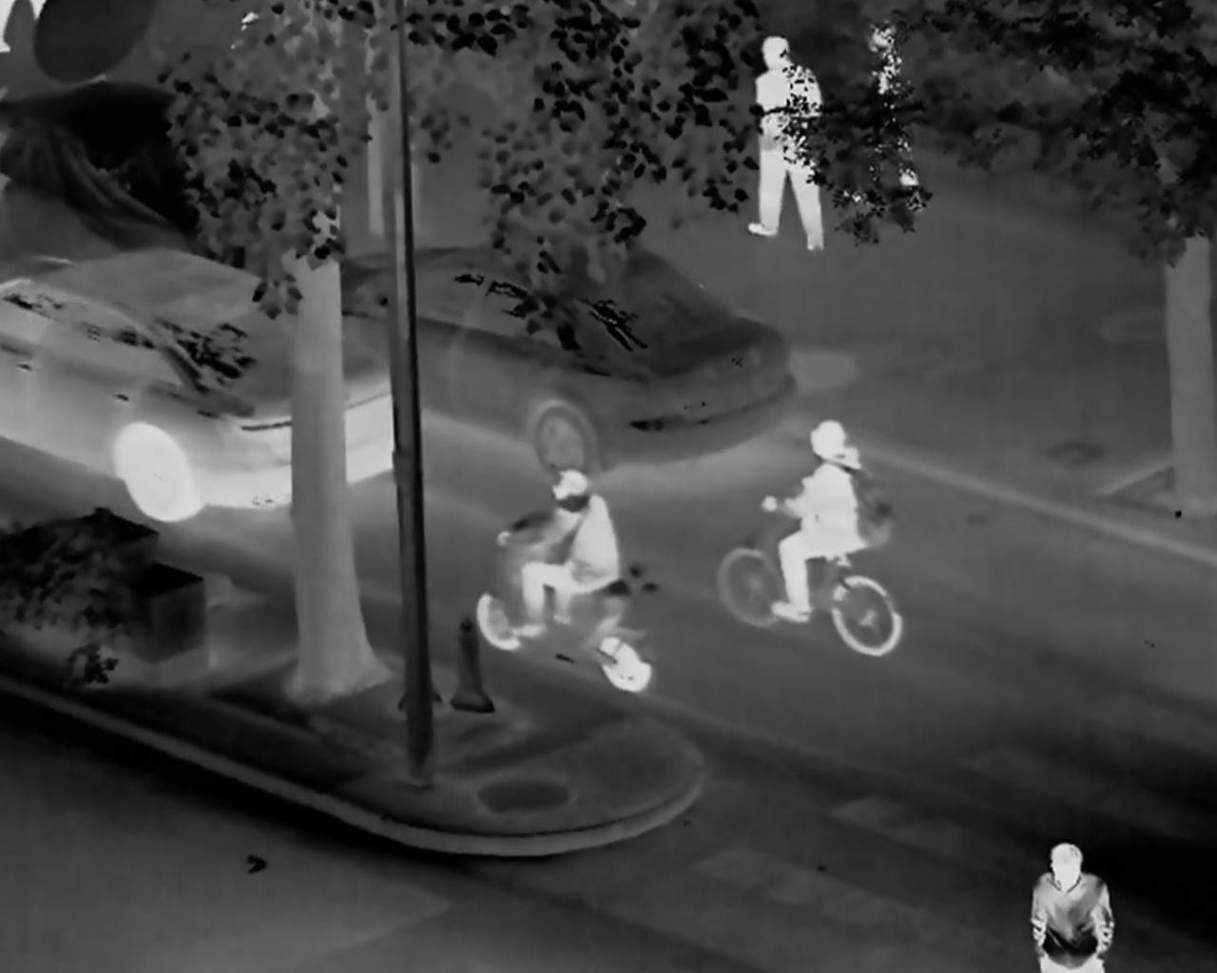person: (766, 421, 877, 627), (492, 468, 622, 636), (745, 34, 829, 249), (855, 19, 921, 213), (1028, 840, 1113, 973)
